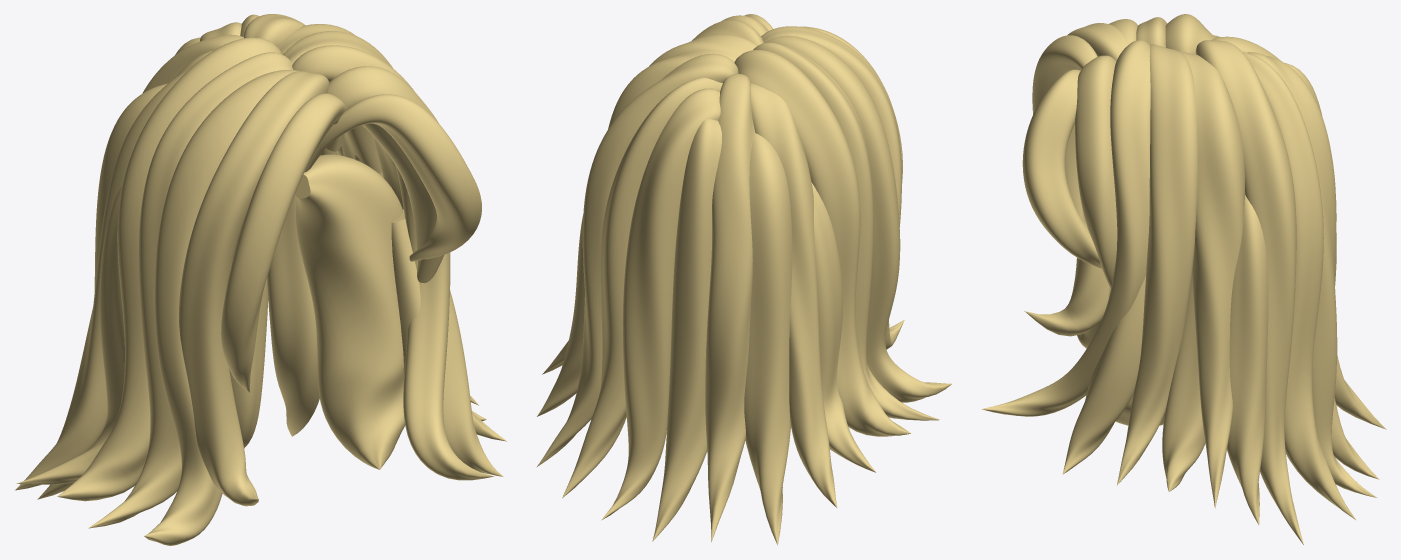
Rendered from head1.glb.
The picture shows the model from 3 angles, left to right: view 1: azimuth 30°, elevation 25°; view 2: azimuth 150°, elevation 25°; view 3: azimuth 270°, elevation 25°; orthographic projection. The views are drawn at different scales.
Visible parts, largest first — view 1: Head1_HairStrand.021, Head1_HairStrand.002, Head1_HairStrand.001, Head1_HairStrand.003, Head1_HairStrand.020, Head1_HairStrand.012, Head1_HairStrand.005, Head1_HairStrand.000, Head1_HairStrand.016, Head1_HairStrand.011, Head1_HairStrand.013, Head1_HairStrand.019 (+7 smaller); view 2: Head1_HairStrand.009, Head1_HairStrand.010, Head1_HairStrand.018, Head1_HairStrand.017, Head1_HairStrand.003, Head1_HairStrand.011, Head1_HairStrand.016, Head1_HairStrand.008, Head1_HairStrand.001, Head1_HairStrand.020, Head1_HairStrand.019, Head1_HairStrand.002 (+4 smaller); view 3: Head1_HairStrand.006, Head1_HairStrand.007, Head1_HairStrand.008, Head1_HairStrand.005, Head1_HairStrand.016, Head1_HairStrand.015, Head1_HairStrand.009, Head1_HairStrand.000, Head1_HairStrand.004, Head1_HairStrand.013, Head1_HairStrand.014, Head1_HairStrand.002 (+6 smaller).
Part boxes in pixels (bbox=[...]): Head1_HairStrand.021: bbox=[295, 154, 405, 469]; Head1_HairStrand.002: bbox=[179, 71, 329, 506]; Head1_HairStrand.001: bbox=[144, 69, 299, 545]; Head1_HairStrand.003: bbox=[57, 37, 281, 501]; Head1_HairStrand.020: bbox=[88, 52, 292, 528]; Head1_HairStrand.012: bbox=[221, 93, 345, 392]; Head1_HairStrand.005: bbox=[292, 45, 494, 480]; Head1_HairStrand.000: bbox=[317, 94, 481, 261]; Head1_HairStrand.016: bbox=[240, 14, 319, 436]; Head1_HairStrand.011: bbox=[15, 51, 212, 490]; Head1_HairStrand.013: bbox=[391, 209, 503, 476]; Head1_HairStrand.019: bbox=[16, 186, 124, 484]; Head1_HairStrand.009: bbox=[601, 88, 720, 520]; Head1_HairStrand.010: bbox=[705, 73, 755, 541]; Head1_HairStrand.018: bbox=[744, 133, 792, 545]; Head1_HairStrand.017: bbox=[652, 119, 721, 541]; Head1_HairStrand.003: bbox=[734, 50, 910, 436]; Head1_HairStrand.011: bbox=[750, 83, 837, 507]; Head1_HairStrand.016: bbox=[562, 77, 722, 498]; Head1_HairStrand.008: bbox=[536, 53, 738, 467]; Head1_HairStrand.001: bbox=[764, 35, 951, 402]; Head1_HairStrand.020: bbox=[753, 42, 939, 420]; Head1_HairStrand.019: bbox=[811, 182, 876, 472]; Head1_HairStrand.002: bbox=[761, 26, 904, 349]; Head1_HairStrand.006: bbox=[1117, 44, 1197, 485]; Head1_HairStrand.007: bbox=[1178, 51, 1244, 508]; Head1_HairStrand.008: bbox=[1195, 40, 1303, 544]; Head1_HairStrand.005: bbox=[981, 40, 1150, 416]; Head1_HairStrand.016: bbox=[1243, 52, 1356, 520]; Head1_HairStrand.015: bbox=[1227, 195, 1268, 524]; Head1_HairStrand.009: bbox=[1247, 52, 1376, 497]; Head1_HairStrand.000: bbox=[1022, 69, 1101, 268]; Head1_HairStrand.004: bbox=[1075, 55, 1117, 288]; Head1_HairStrand.013: bbox=[1062, 276, 1145, 474]; Head1_HairStrand.014: bbox=[1162, 272, 1205, 491]; Head1_HairStrand.002: bbox=[1024, 23, 1128, 336].
Bounding box in the file's own units: 75.92 × 85.87 × 70.21.
